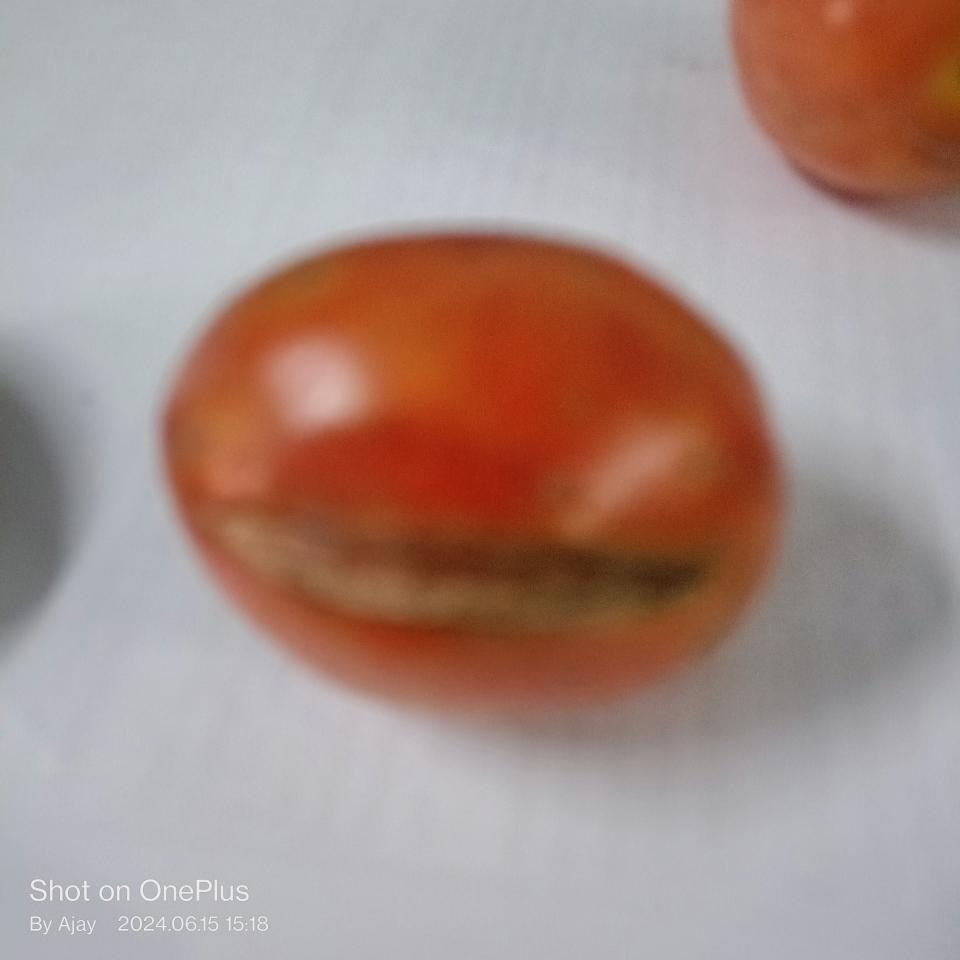Cracking: (194, 485, 729, 629)
